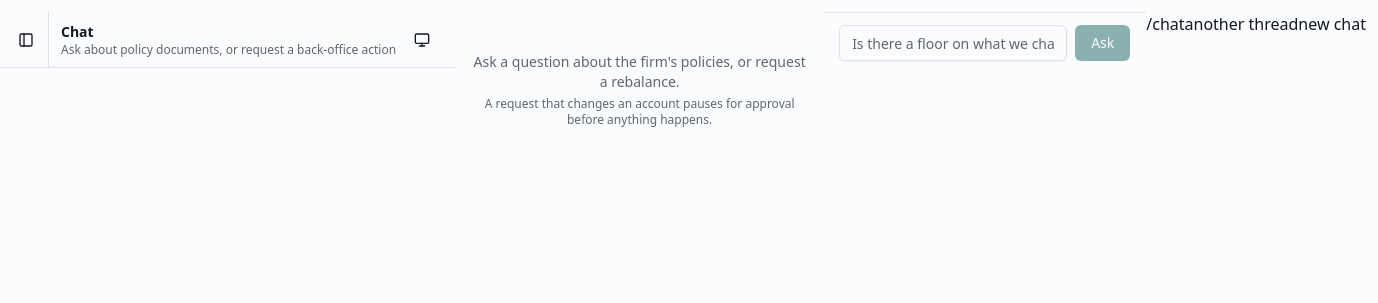
Test: ChatPage › offers approve and reject for a HIGH-risk action, and says nothing has happened
The width and height of the screenshot is (1378, 303).
Type "Rebalance AC-0042" into the field named "Message" at (953,43), box [839,25,1067,61]
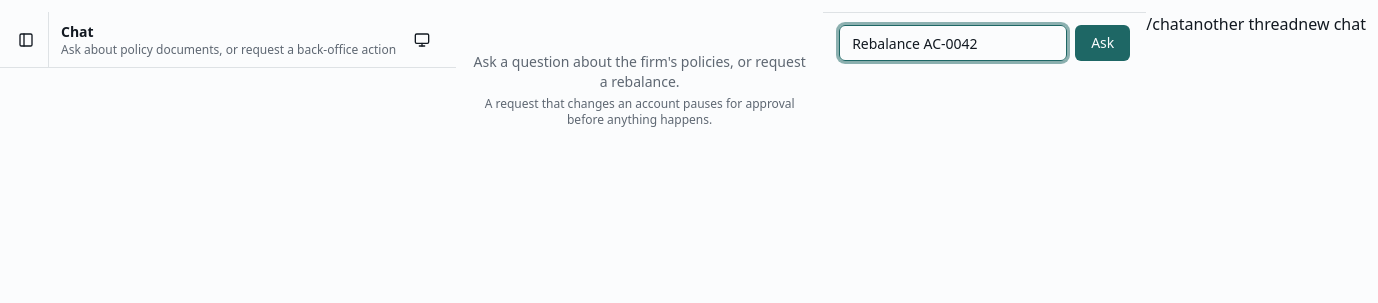
Click the button "Ask" at (1103,43), box [1075,25,1130,61]
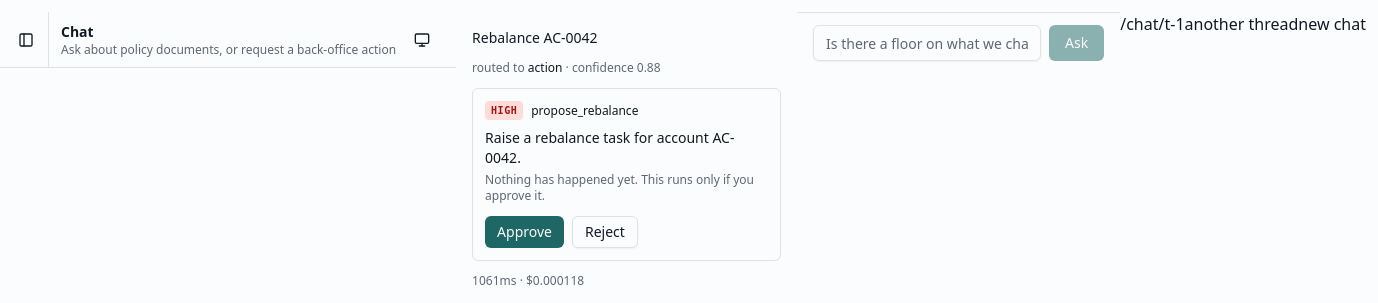
expect the element with test id "approval" is shown: met, box [472,88,781,261]
expect the element with test id "approval" shows "HIGH": met, box [491,105,517,116]
expect the element with test id "approval" shows "propose_rebalance": met, box [531,102,638,118]
